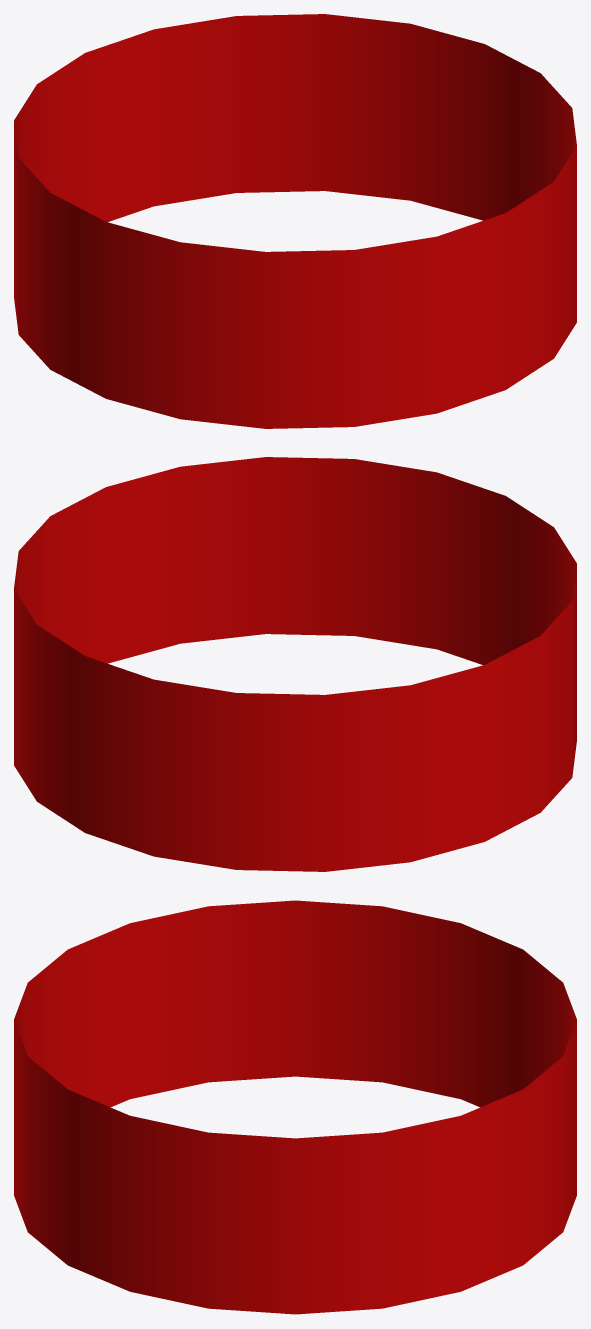
3 renders of one model, top to bottom at view 1: azimuth 30°, elevation 25°; view 2: azimuth 150°, elevation 25°; view 3: azimuth 270°, elevation 25°, orthographic.
Parts seen in each view (by area): view 1: pCylinder2; view 2: pCylinder2; view 3: pCylinder2.
Part boxes in pixels (x1,y1,x2,y2): pCylinder2: (14, 14, 576, 428); pCylinder2: (14, 457, 576, 871); pCylinder2: (14, 900, 576, 1314).
Size of the model in its own units: 2 by 0.6901 by 2.
